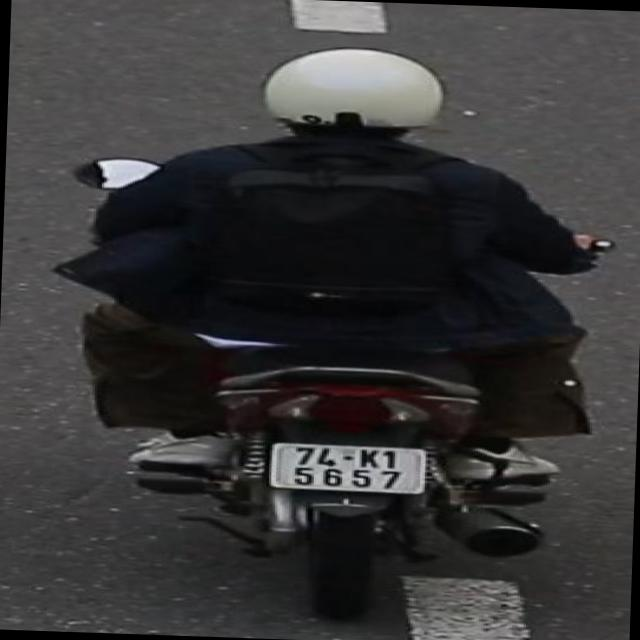LP: (253, 434, 440, 508)
helmet: (255, 39, 450, 148)
